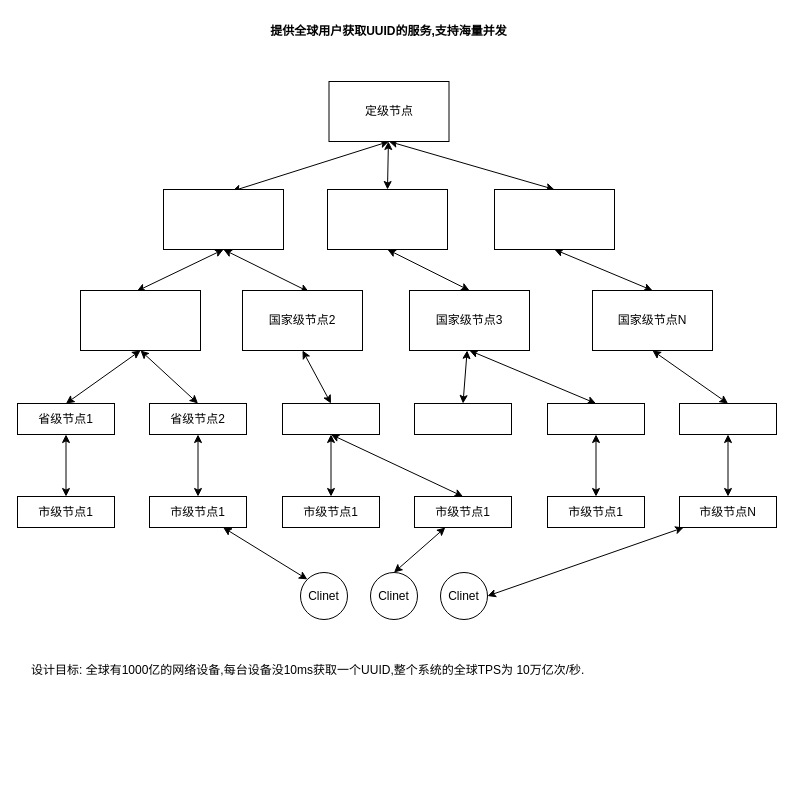
The diagram is 795 pixels wide and 810 high, and some of its shapes have lost their labels. Each missing label, with the centre of its shape:
国家级节点1: the point at 140,320
洲际节点1: the point at 223,219
洲际节点2: the point at 387,219
洲际节点N: the point at 554,219
省级节点3: the point at 331,418
省级节点4: the point at 463,418
省级节点5: the point at 595,418
省级节点N: the point at 727,418
